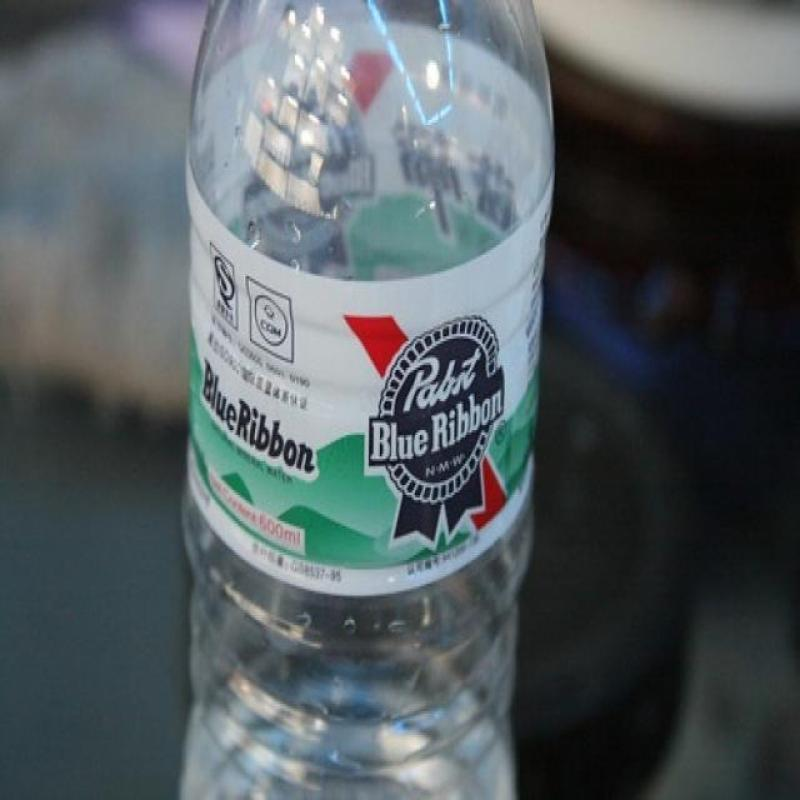botella: (185, 5, 556, 797)
